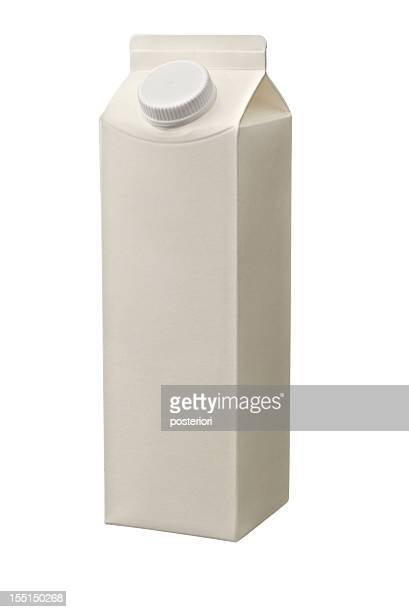carton: (85, 17, 304, 558)
